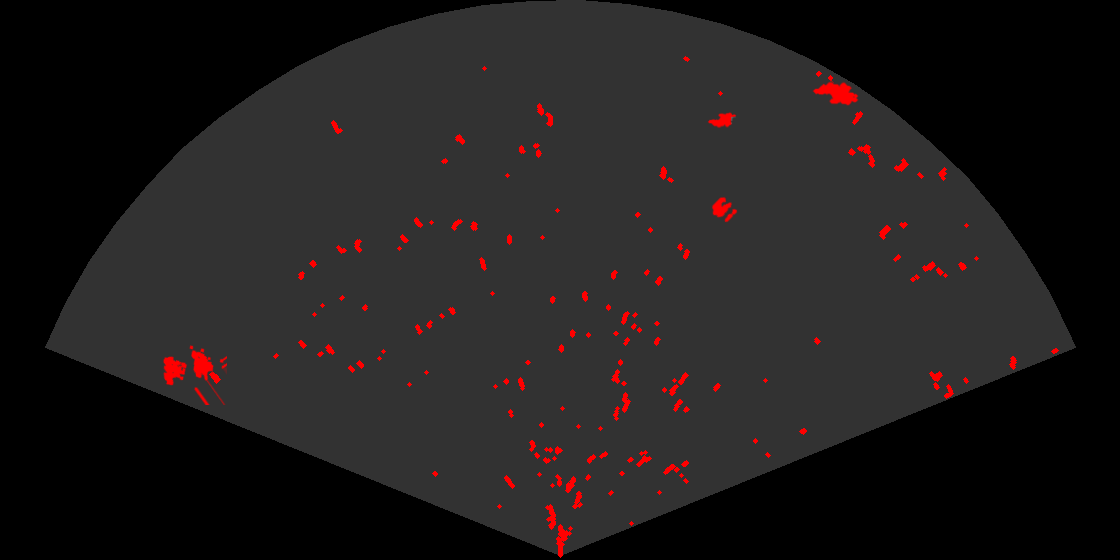AUV: (811, 80, 860, 107), (706, 111, 738, 128)
ball: (710, 195, 739, 224)
cage: (162, 344, 227, 405)
